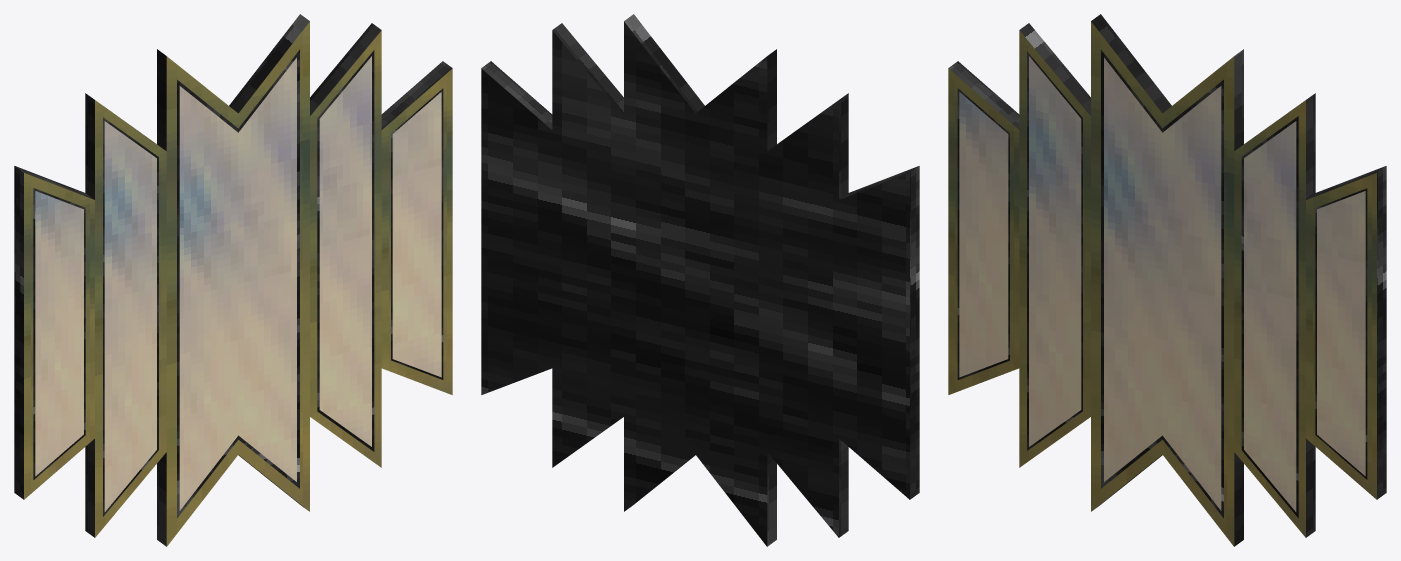
The model's file is Cabinet 1.fbx.
The picture shows the model from 3 angles, left to right: view 1: azimuth 30°, elevation 25°; view 2: azimuth 150°, elevation 25°; view 3: azimuth 330°, elevation 25°; orthographic projection.
Visible parts, largest first — view 1: Cube; view 2: Cube; view 3: Cube.
Part boxes in pixels (x1,y1,x2,y2): Cube: (14,14,452,546); Cube: (481,14,919,546); Cube: (948,14,1386,546).
Bounding box in the file's own units: 2.63 × 0.1049 × 2.88.
